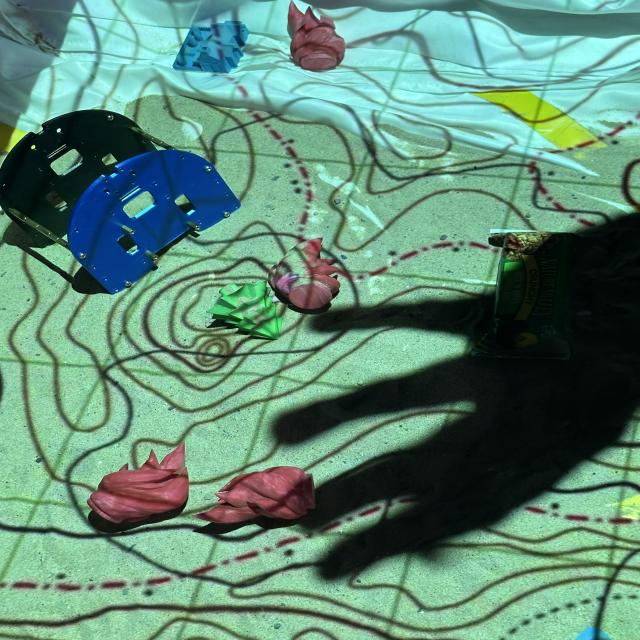fire: (90, 442, 190, 523), (192, 468, 318, 526), (267, 238, 342, 310), (284, 2, 348, 70)
house: (172, 16, 251, 73)
tree: (210, 281, 284, 338)
